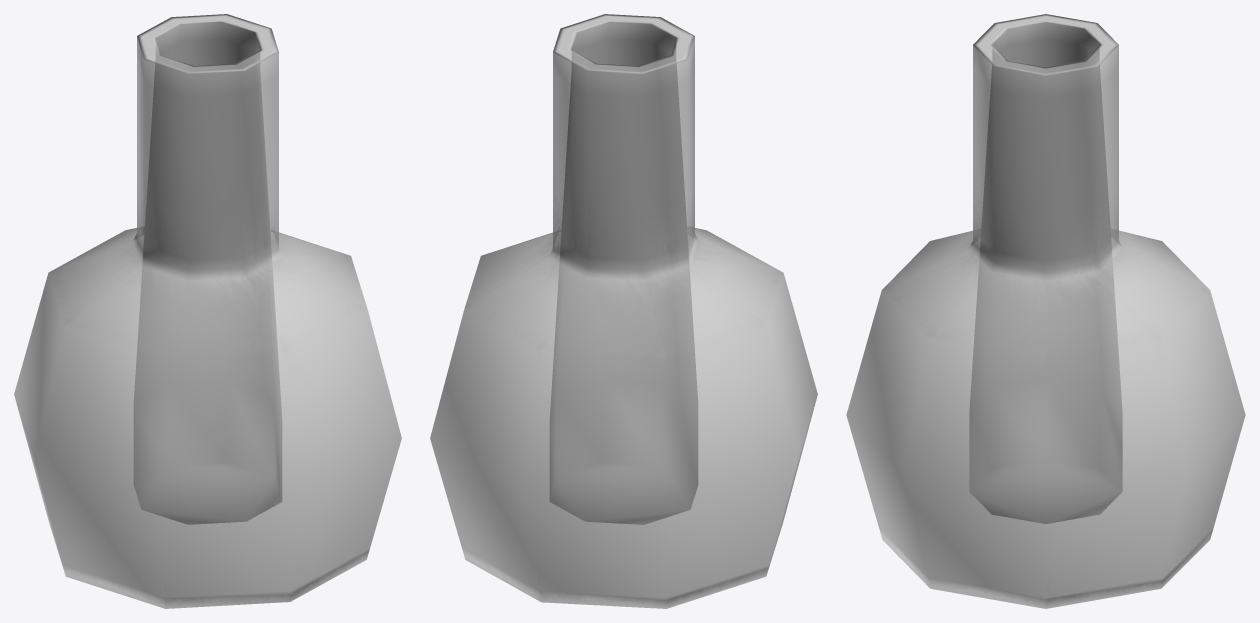
File: flask3.glb
3 views of the same model, side by side, from view 1: azimuth 30°, elevation 25°; view 2: azimuth 150°, elevation 25°; view 3: azimuth 270°, elevation 25° (orthographic).
Parts seen in each view (by area): view 1: pCylinder1; view 2: pCylinder1; view 3: pCylinder1.
Part boxes in pixels (bbox=[...]): pCylinder1: bbox=[14, 14, 401, 608]; pCylinder1: bbox=[430, 14, 817, 608]; pCylinder1: bbox=[846, 14, 1245, 608].
Size of the model in its own units: 0.0383 by 0.0524 by 0.0383.
1 material, 1 textured.
